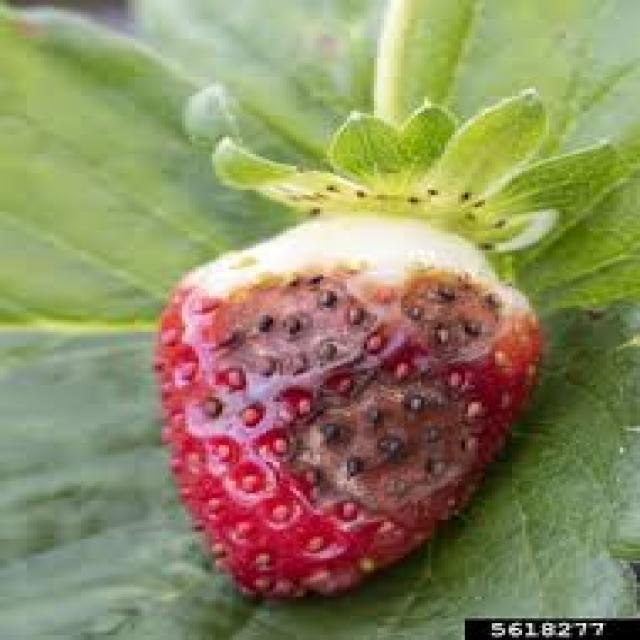Mancha negra Antracnosis: (166, 222, 539, 586)
